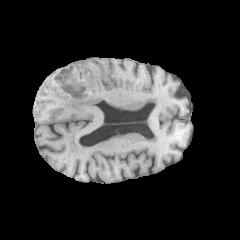glioma: (38, 62, 103, 123)
